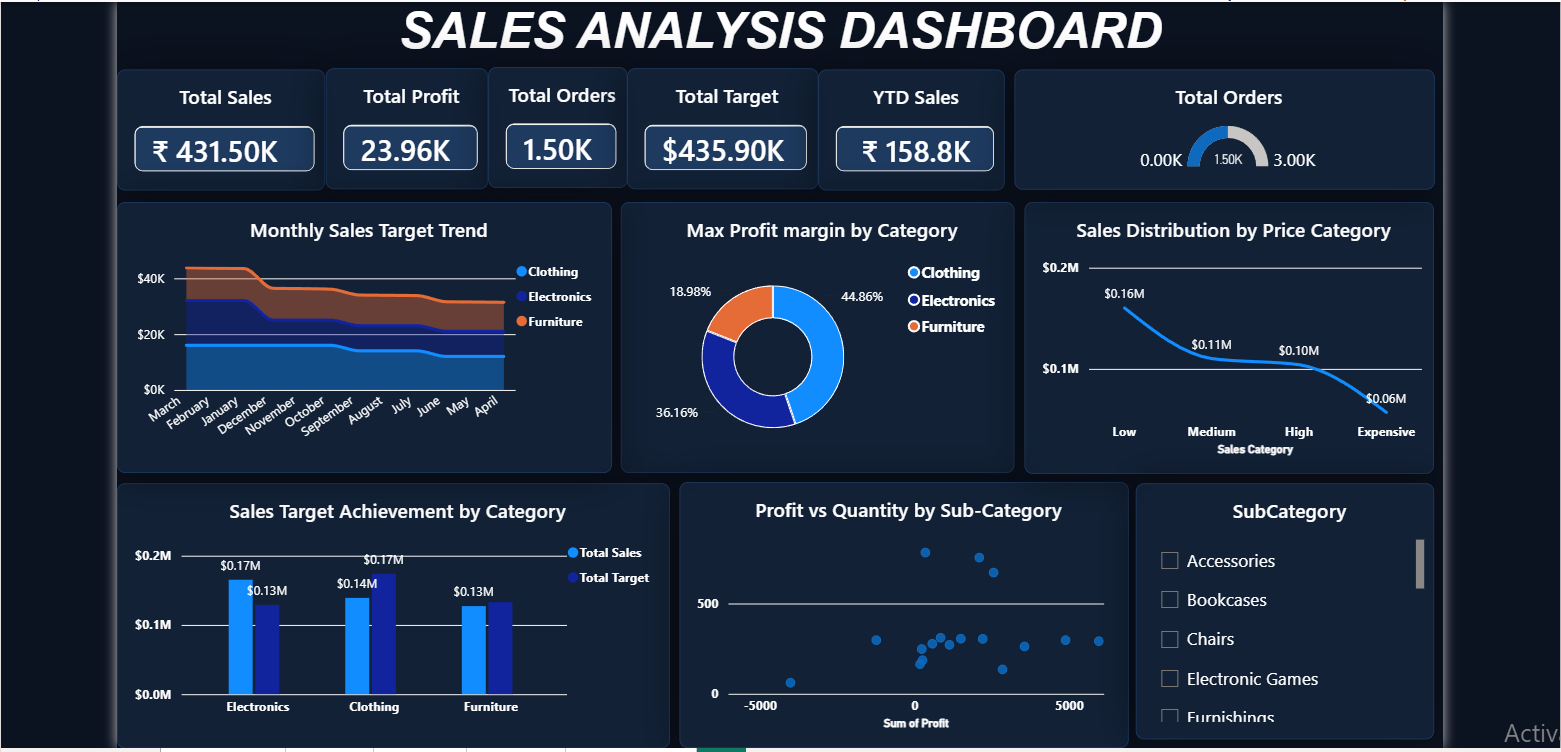

What the dashboard file says about the page in this screenshot:
{"tool":"powerbi","page":{"name":"Dashboard","canvas":[1280,720],"ordinal":0},"visuals":[{"type":"textbox","box":[0,0,1280,65.1],"z":0},{"type":"cardVisual","title":"Total Sales","fields":{"Data":["Order Details.Total Sales"]},"box":[0,64.8,201.1,116.5],"z":1000},{"type":"cardVisual","title":"Total Profit","fields":{"Data":["Order Details.Total Profit"]},"box":[201.5,63.9,157.1,116.5],"z":2000},{"type":"cardVisual","title":"Total Orders","fields":{"Data":["Order Details.Order Count"]},"box":[358.3,62.7,134.1,116.5],"z":3000},{"type":"cardVisual","title":"Total Target","fields":{"Data":["Sales target.Total Target"]},"box":[492.2,63.9,184.6,116.5],"z":4000},{"type":"cardVisual","title":"YTD Sales","fields":{"Data":["Order Details.YTD Sales"]},"box":[676.8,65.1,180.2,116.5],"z":5000},{"type":"donutChart","fields":{"Category":["Order Details.Category"],"Y":["Order Details.Max Profit margin"]},"box":[486.2,193,380,261.8],"z":6000},{"type":"clusteredColumnChart","title":"Sales Target Achievement by Category","fields":{"Category":["Sales target.Category"],"Y":["Order Details.Total Sales","Sales target.Target Sales"]},"box":[0,464.5,533.2,255.8],"z":7000},{"type":"scatterChart","title":"Profit vs Quantity by Sub-Category","fields":{"Category":["Order Details.Sub-Category"],"X":["Sum(Order Details.Profit)"],"Y":["Sum(Order Details.Quantity)"]},"box":[543.4,463.8,433.6,256.6],"z":8000},{"type":"lineChart","title":"Sales Distribution by Price Category","fields":{"Category":["Order Details.Sales Category"],"Y":["Sum(Order Details.Amount)"]},"box":[875.5,193.5,395.2,262.1],"z":9000},{"type":"gauge","fields":{"Y":["Order Details.Total Orders"]},"box":[866.2,65.1,405.4,115.8],"z":10000},{"type":"stackedAreaChart","title":"Monthly Sales Target Trend","fields":{"Category":["Sales target.Month Name"],"Series":["Sales target.Category"],"Y":["Sales target.Target Sales"]},"box":[0,193,477.8,261.8],"z":11000},{"type":"slicer","title":"SubCategory","fields":{"Values":["Order Details.Sub-Category"]},"box":[983.2,464.5,288.3,248.5],"z":11001}]}

Visuals, with their boxes on the page's 1280x720 design canvas (x1, y1, x2, y2). These are canvas units, not pixel positions in the 1561x752 screenshot, which may show the page scaled, cropped or inside an application window:
textbox: <box>0,0,1280,65</box>
"Total Sales" cardVisual: <box>0,65,201,181</box>
"Total Profit" cardVisual: <box>202,64,359,180</box>
"Total Orders" cardVisual: <box>358,63,492,179</box>
"Total Target" cardVisual: <box>492,64,677,180</box>
"YTD Sales" cardVisual: <box>677,65,857,182</box>
donutChart - Order Details.Category x Order Details.Max Profit margin: <box>486,193,866,455</box>
"Sales Target Achievement by Category" clusteredColumnChart: <box>0,464,533,720</box>
"Profit vs Quantity by Sub-Category" scatterChart: <box>543,464,977,720</box>
"Sales Distribution by Price Category" lineChart: <box>876,194,1271,456</box>
gauge - Order Details.Total Orders: <box>866,65,1272,181</box>
"Monthly Sales Target Trend" stackedAreaChart: <box>0,193,478,455</box>
"SubCategory" slicer: <box>983,464,1272,713</box>
